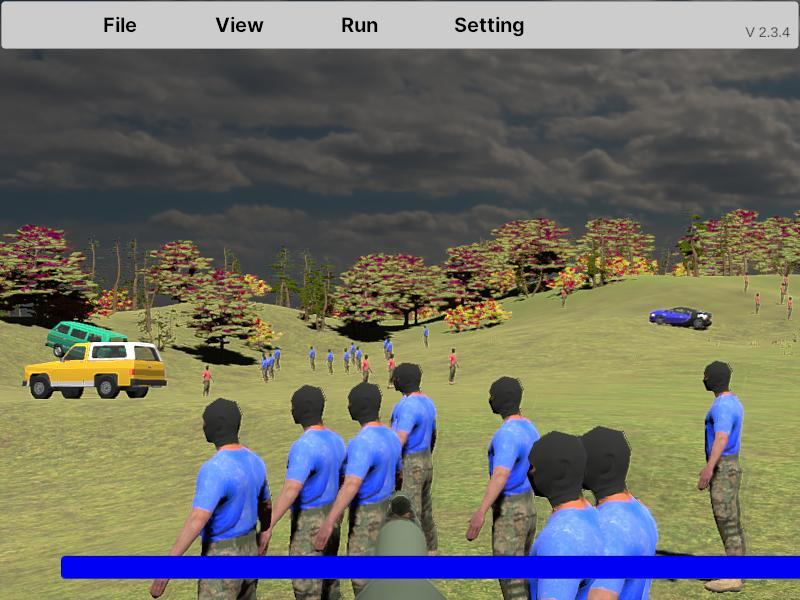Human: (151, 395, 275, 600), (258, 381, 353, 600), (318, 380, 403, 599), (466, 374, 542, 600), (574, 424, 659, 600), (528, 431, 603, 600), (382, 361, 438, 565), (697, 359, 745, 592)
car: (25, 342, 167, 400), (45, 320, 129, 358), (648, 306, 713, 330)
